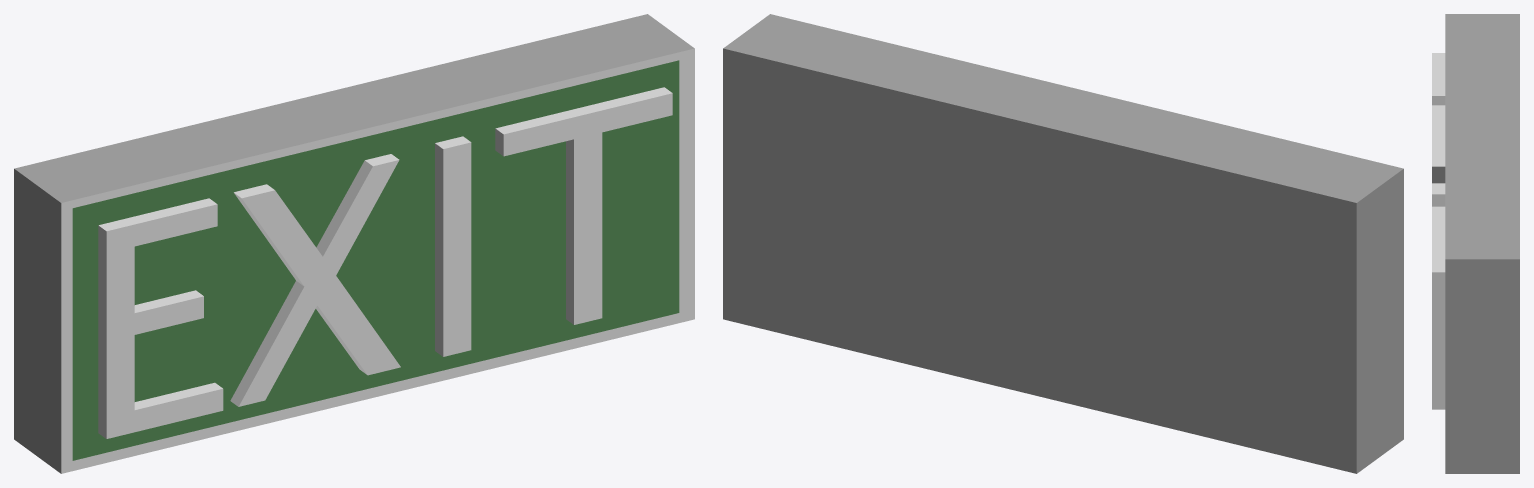
Rendered from exit sign.fbx.
3 views of the same model, side by side, from view 1: azimuth 30°, elevation 25°; view 2: azimuth 150°, elevation 25°; view 3: azimuth 270°, elevation 25° (orthographic). The views are drawn at different scales.
Parts seen in each view (by area): view 1: pCube1, typeMesh1; view 2: pCube1; view 3: pCube1, typeMesh1.
Part boxes in pixels (left/top/right/bottom): pCube1: left=14, top=14, right=694, bottom=473; typeMesh1: left=98, top=87, right=672, bottom=438; pCube1: left=723, top=14, right=1403, bottom=473; pCube1: left=1445, top=14, right=1519, bottom=473; typeMesh1: left=1432, top=53, right=1445, bottom=409.
Bounding box in the file's own units: 2.45 × 1 × 0.3704.
